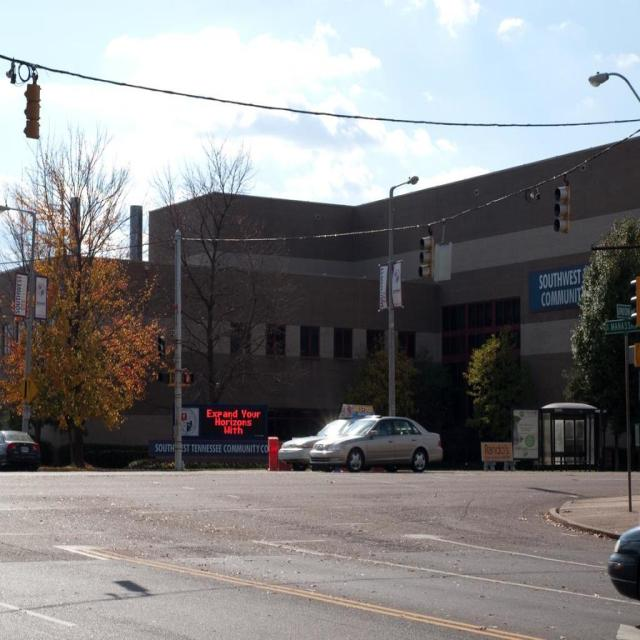car: (309, 414, 441, 472)
